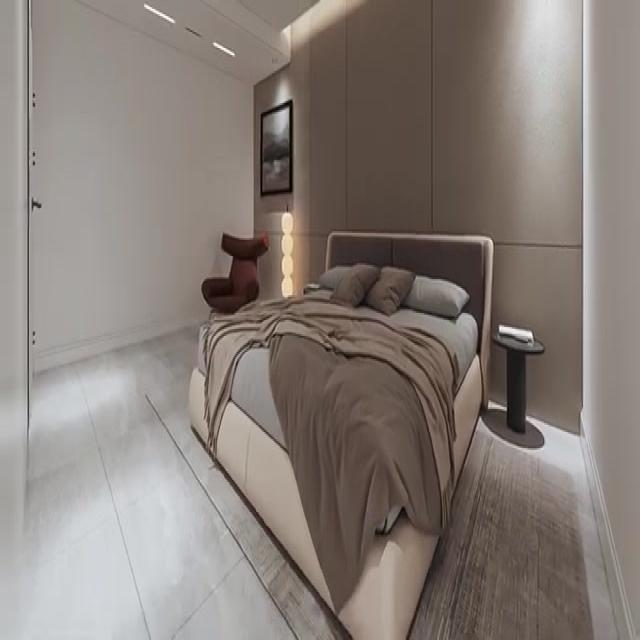obstacle: (187, 230, 494, 638), (491, 327, 545, 439), (201, 230, 269, 318)
